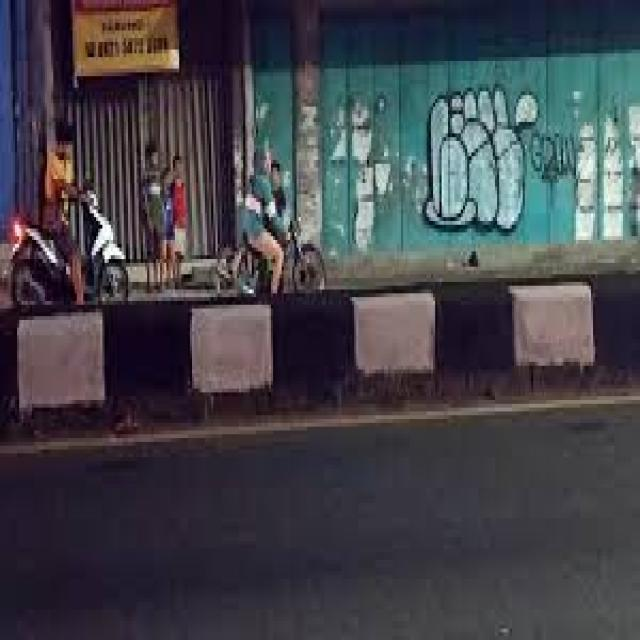-: (421, 84, 538, 232), (530, 132, 577, 201)
